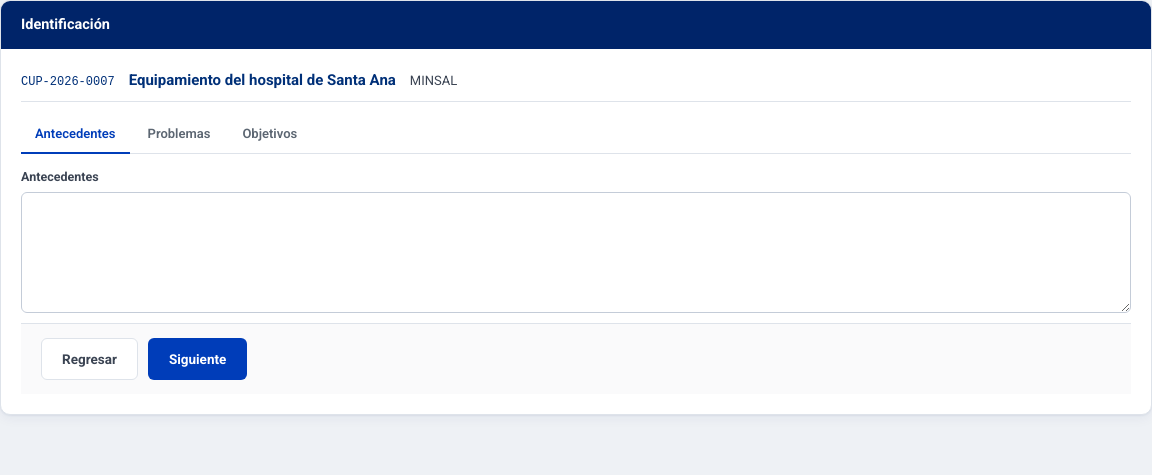
Test case: IdentificacionPage · CU-PRE-04 › otros actores › el Técnico PRE puede descargar un adjunto
The image size is (1152, 475).
Expected: the text "MINSAL" is shown, 410,71 -> 457,90
Click the tab "Problemas" at coordinates (179, 135), box 134,116 -> 224,154
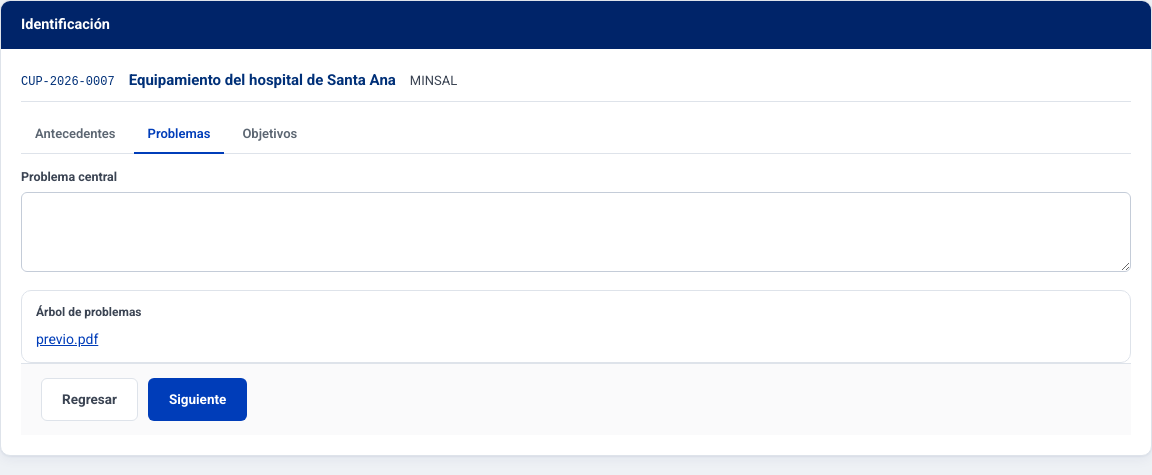
Now the button "previo.pdf" is shown, box 36,329 -> 98,350
